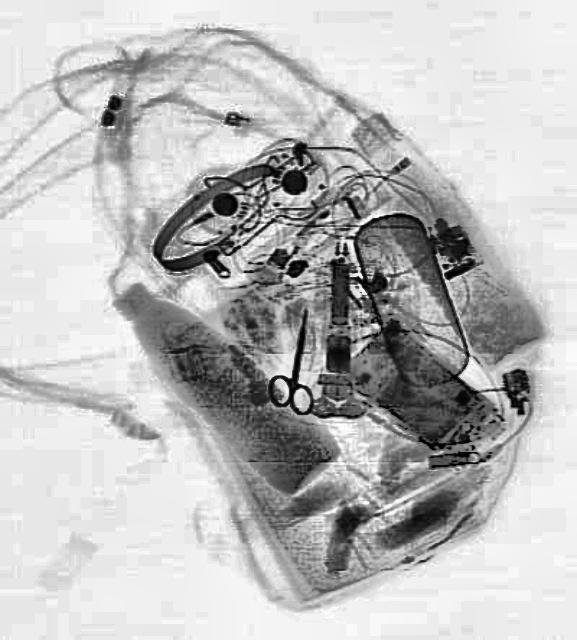Scissors: (263, 301, 329, 415)
